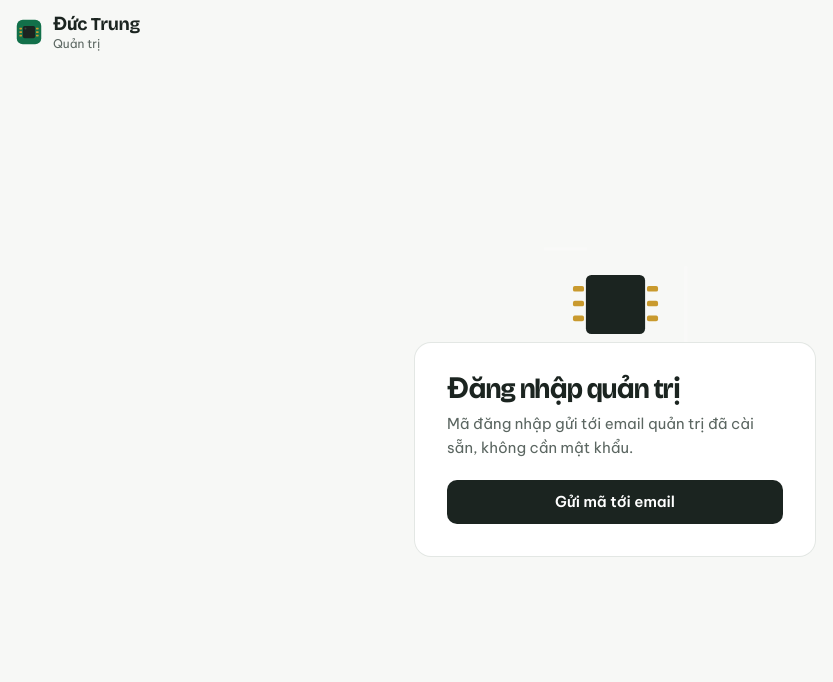
bấm 'Gửi mã tới email' → requestCode gọi 1 lần, hiện message và ô 'Mã 6 số'
Check: the heading "Đăng nhập quản trị" is shown, box x1=447 y1=372 x2=680 y2=406
Click the button "Gửi mã tới email" at (615, 502), box x1=447 y1=480 x2=783 y2=524
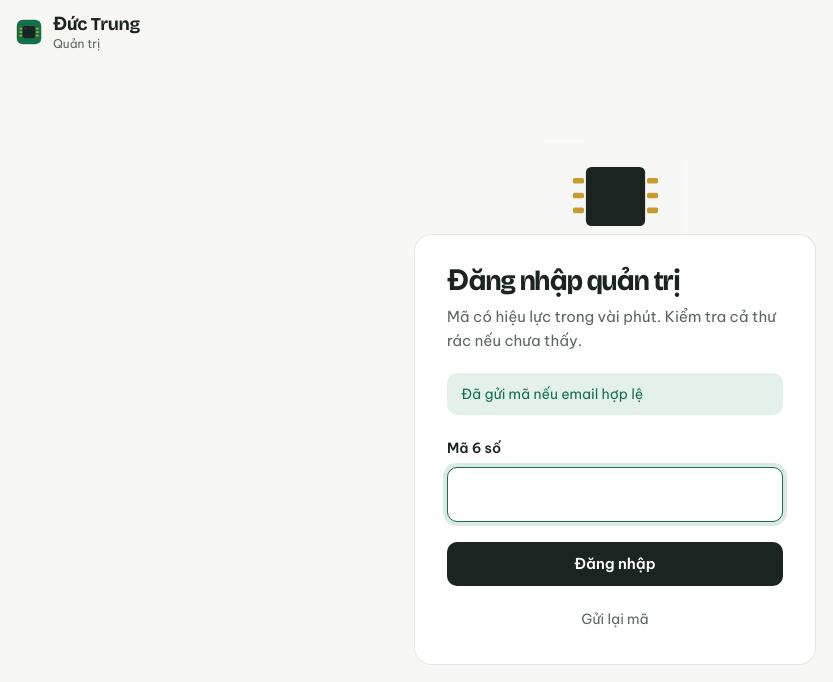
Check: the text "Đã gửi mã nếu email hợp lệ" is shown, box x1=447 y1=373 x2=783 y2=415
